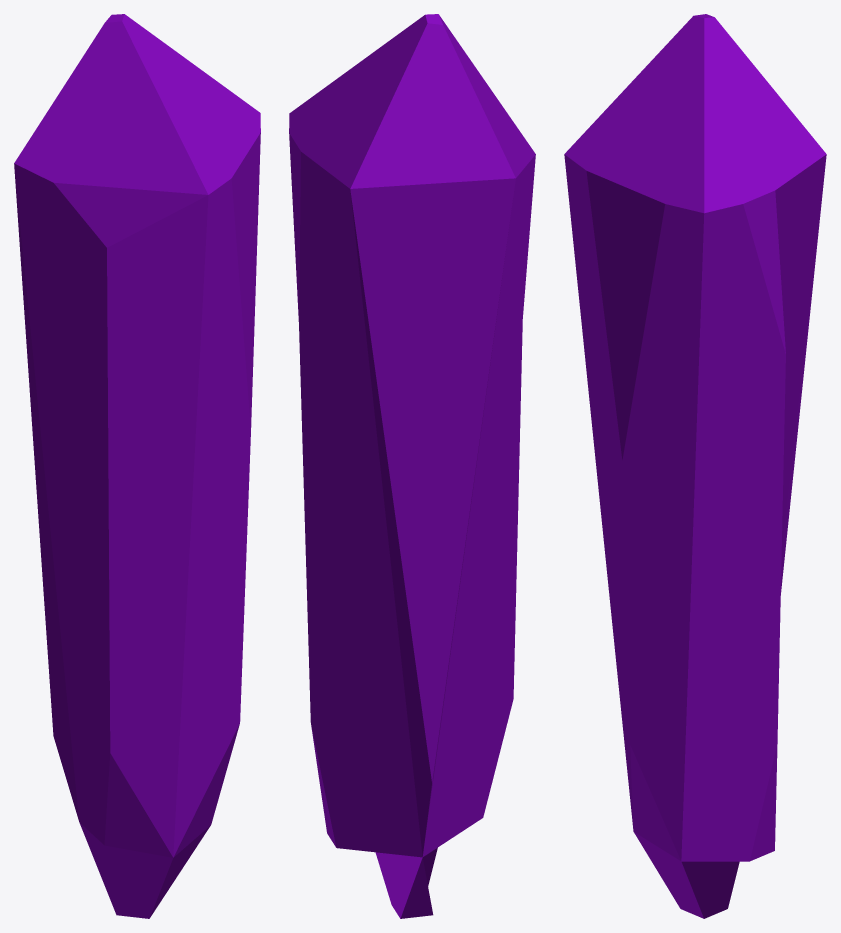
The model's file is crystal_3.fbx.
3 views of the same model, side by side, from view 1: azimuth 30°, elevation 25°; view 2: azimuth 150°, elevation 25°; view 3: azimuth 270°, elevation 25° (orthographic).
Parts seen in each view (by area): view 1: Crystal_1; view 2: Crystal_1; view 3: Crystal_1.
Part boxes in pixels (<box>): Crystal_1: <box>14,14,260,918</box>; Crystal_1: <box>289,14,535,918</box>; Crystal_1: <box>564,14,826,918</box>.
Bounding box in the file's own units: 380 × 1380 × 371.
